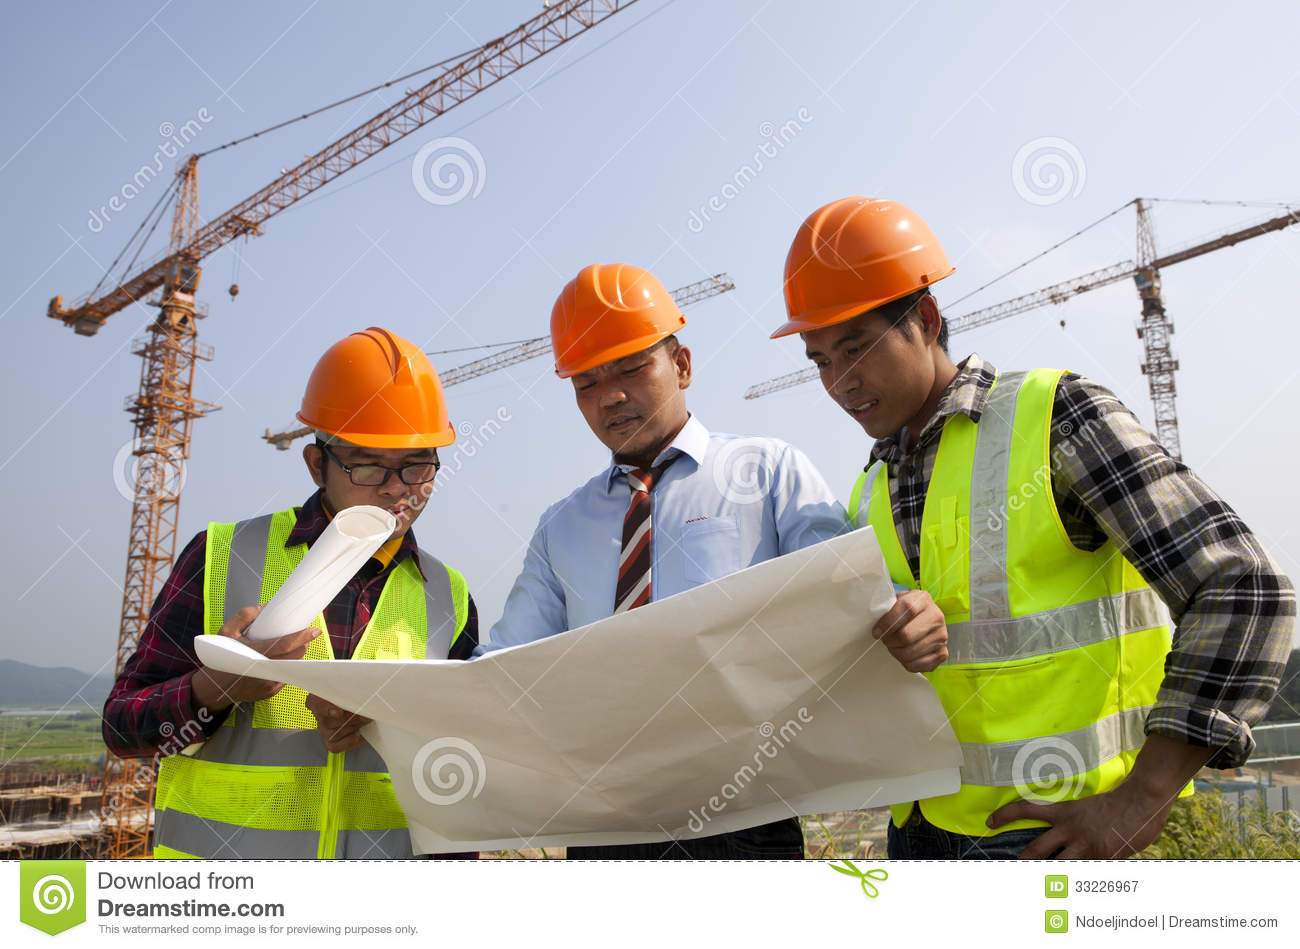casco: (768, 196, 958, 340), (293, 325, 460, 450), (547, 262, 688, 382)
